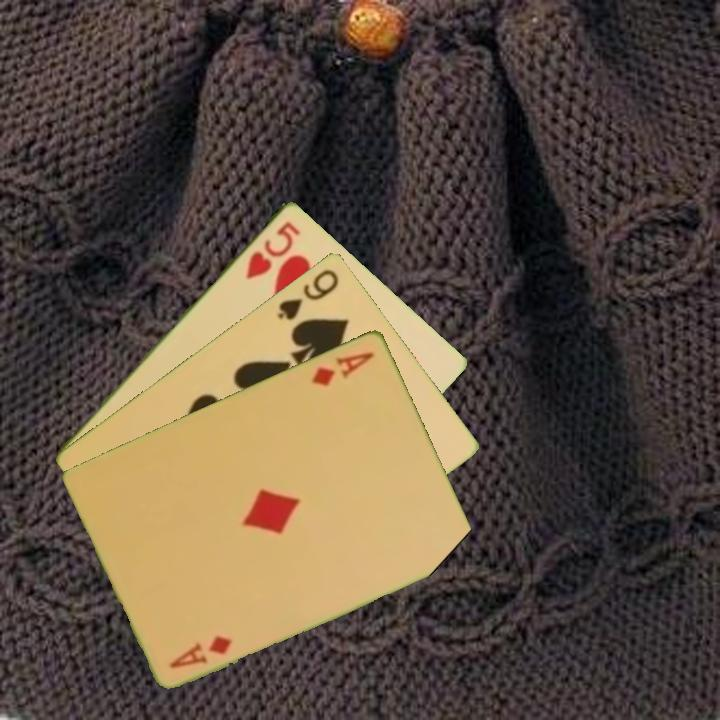5h: (242, 217, 304, 282)
9s: (274, 265, 342, 323)
Ad: (308, 348, 377, 389), (166, 631, 235, 671)
